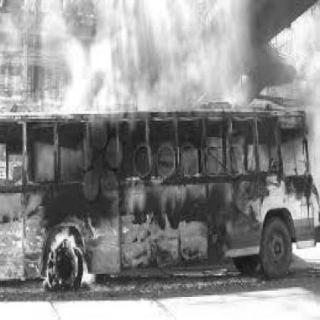Fire: (28, 218, 108, 296)
other: (48, 15, 116, 116)
